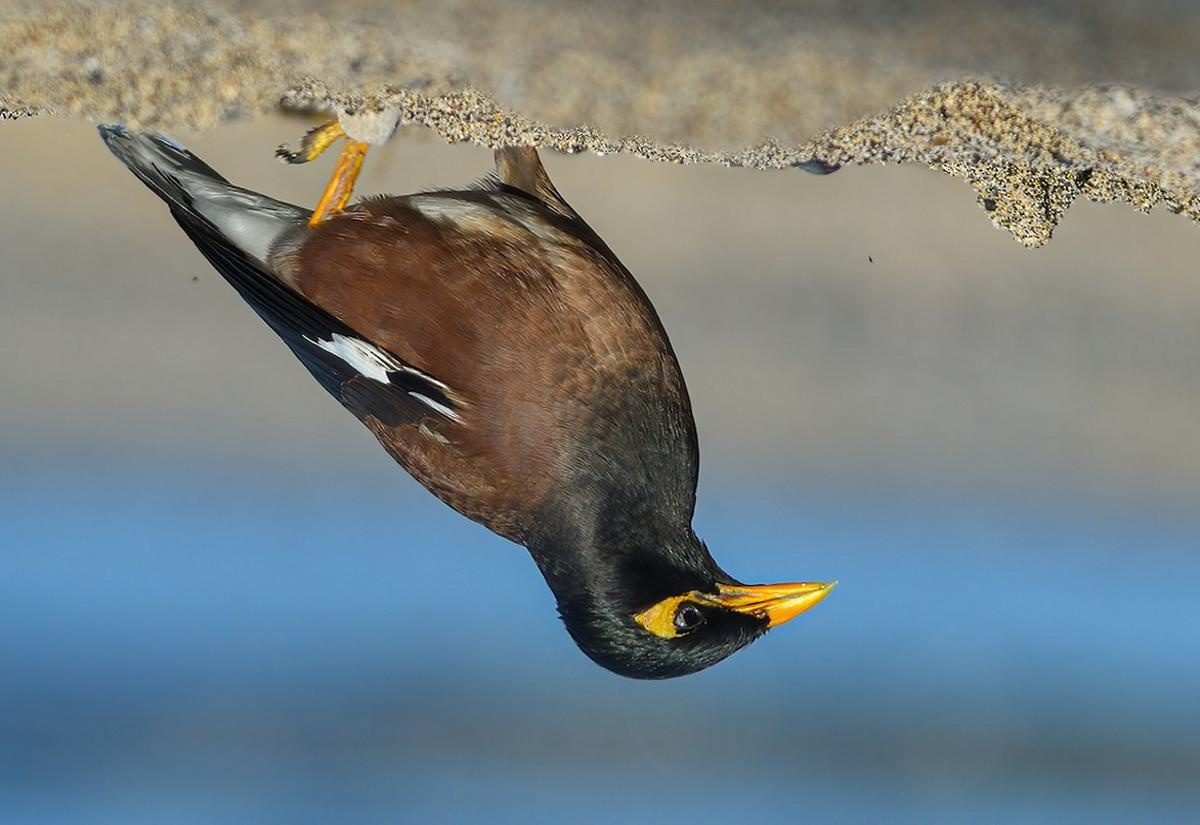myna: (166, 87, 853, 680)
